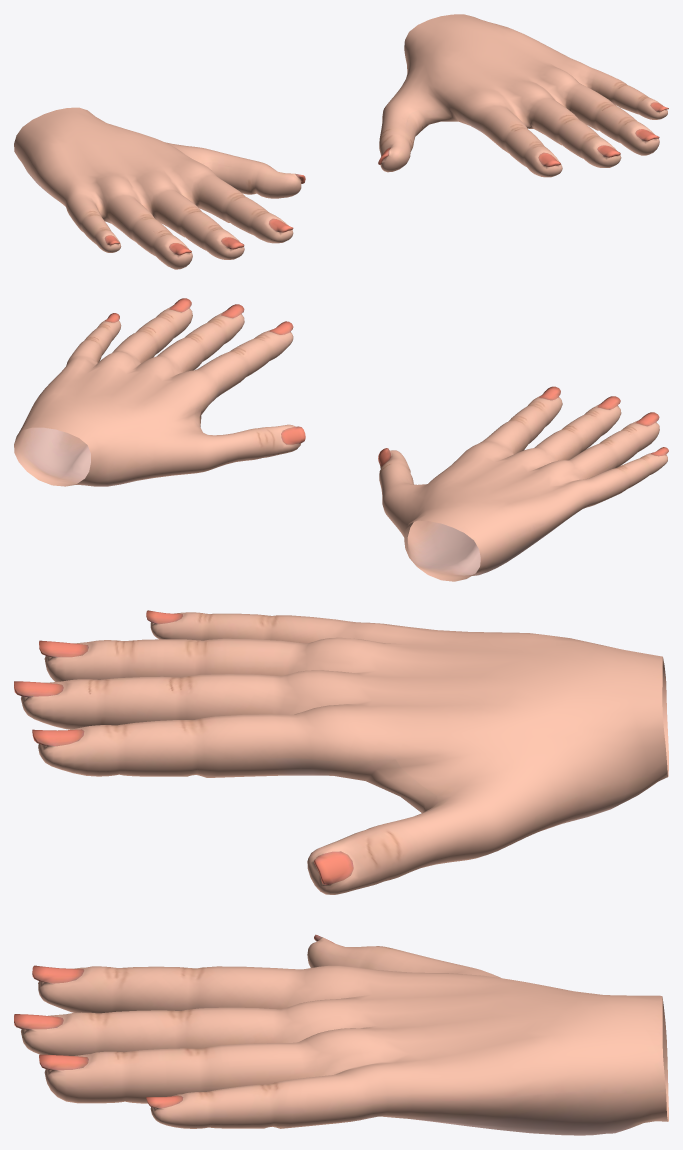
The model's file is maos.glb.
3 views of the same model, one above another, from view 1: azimuth 30°, elevation 25°; view 2: azimuth 150°, elevation 25°; view 3: azimuth 270°, elevation 25° (orthographic). The views are drawn at different scales.
Visible parts, largest first — view 1: Female_Hand; view 2: Female_Hand; view 3: Female_Hand.
Part boxes in pixels (x1,y1,x2,y2): Female_Hand: [14, 14, 668, 269]; Female_Hand: [14, 298, 668, 581]; Female_Hand: [14, 610, 668, 1135].
Size of the model in its own units: 0.2774 by 0.031 by 0.154.
1 material, 1 textured.
